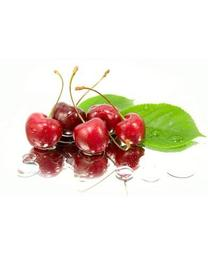cherry: (26, 112, 60, 150), (73, 118, 108, 154), (115, 114, 146, 146), (52, 102, 83, 134), (86, 106, 121, 134)
